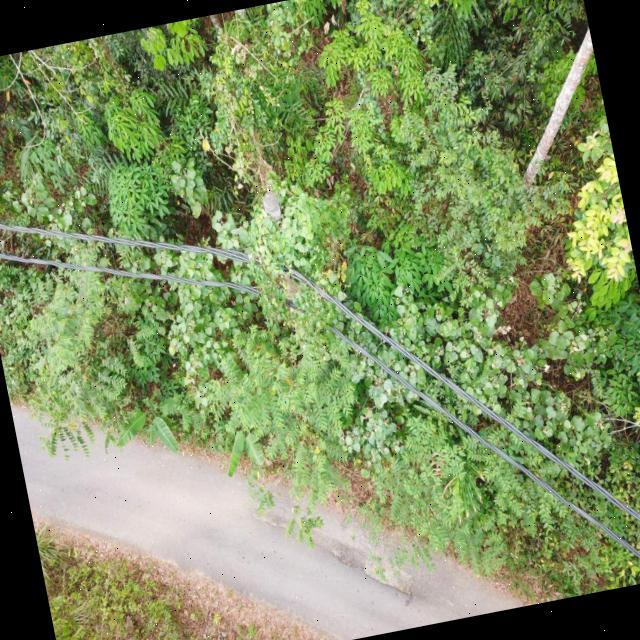critical vegetation: (226, 160, 364, 370)
